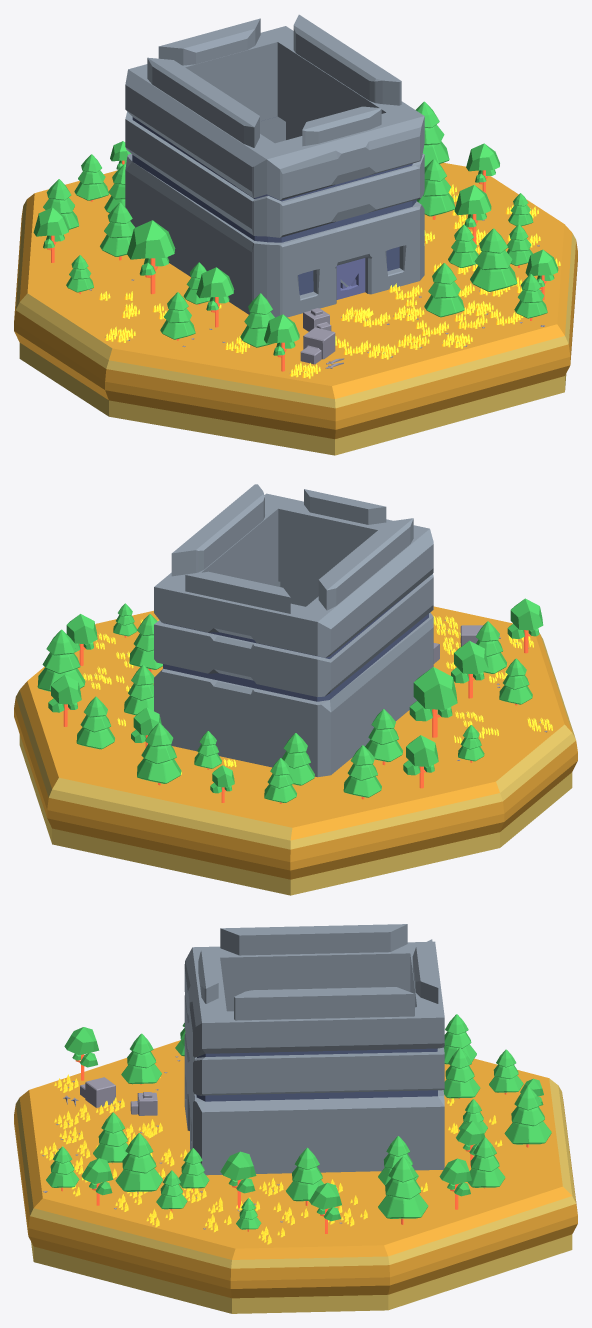
Rendered from Kale.fbx.
The picture shows the model from 3 angles, top to bottom: view 1: azimuth 30°, elevation 25°; view 2: azimuth 150°, elevation 25°; view 3: azimuth 270°, elevation 25°; orthographic projection. The views are drawn at different scales.
Visible parts, largest first — view 1: Kale; view 2: Kale; view 3: Kale.
Part boxes in pixels (x1,y1,x2,y2): Kale: [14, 14, 577, 455]; Kale: [14, 484, 577, 895]; Kale: [14, 924, 577, 1313].
Size of the model in its own units: 751 by 359 by 775.
